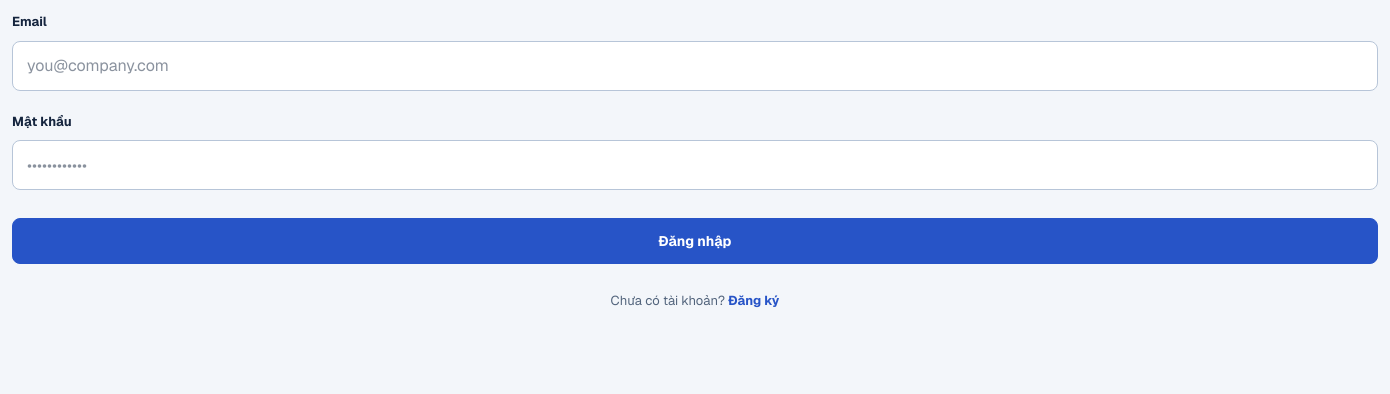
Test case: AuthForm › keeps entered email and shows a recoverable server error
The width and height of the screenshot is (1390, 394).
In the field labelled "Email": (695, 66) [12, 40, 1378, 90], type "a@example.com"
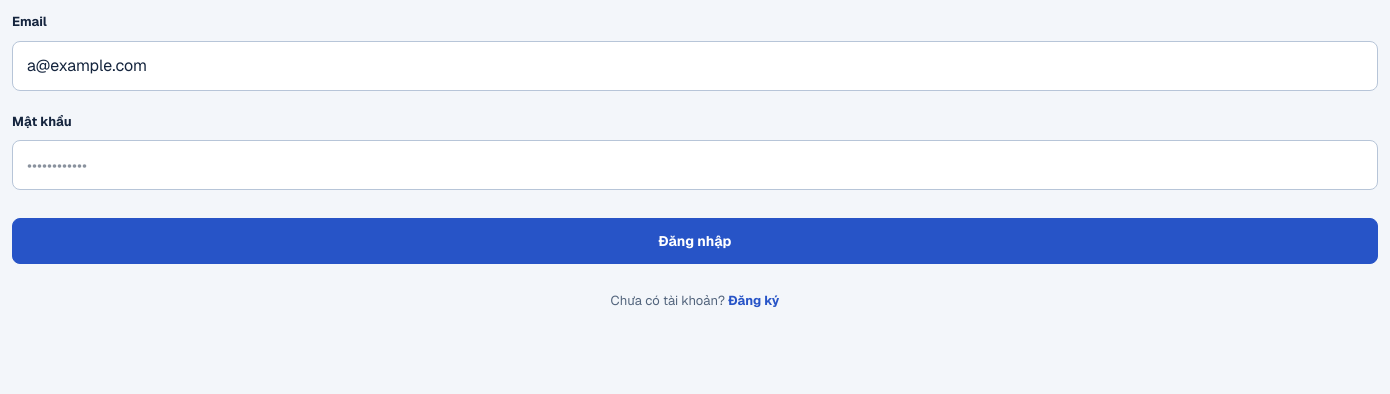
In the password field labelled "Mật khẩu": (695, 165) [12, 140, 1378, 190], type "wrongpass"
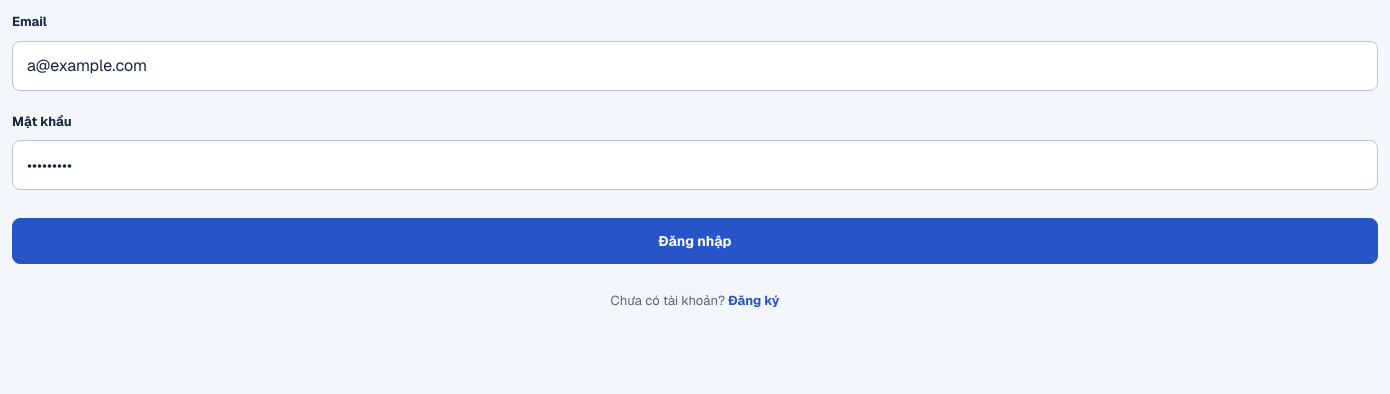
Click the button "Đăng nhập": click(695, 241) [12, 218, 1378, 264]
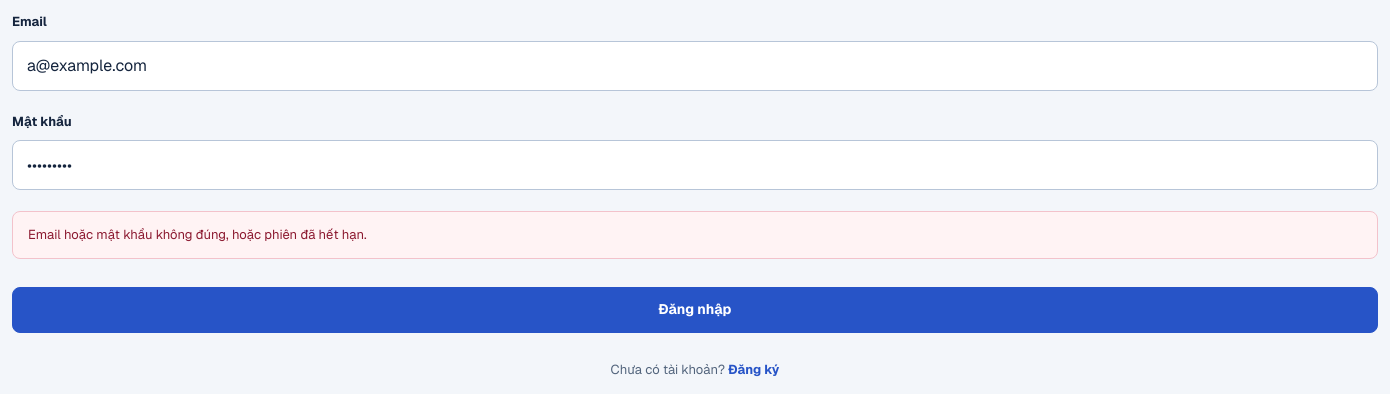
expect the message shows "Email hoặc mật khẩu không đúng": met, box [28, 226, 367, 243]
